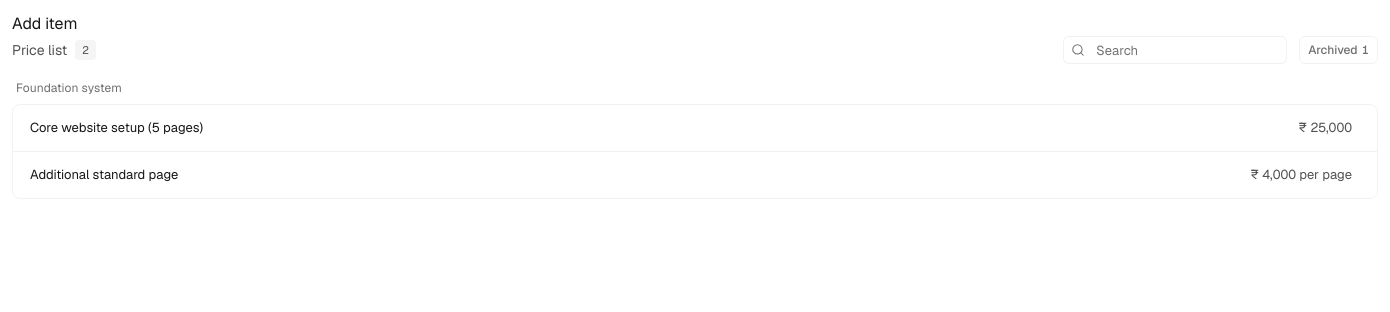
it: the price list › hides archived items until they are asked for
Expected: the text "Retired line" is not shown
Click the button "Archived 1": (1339,50) x1=1299 y1=36 x2=1378 y2=64
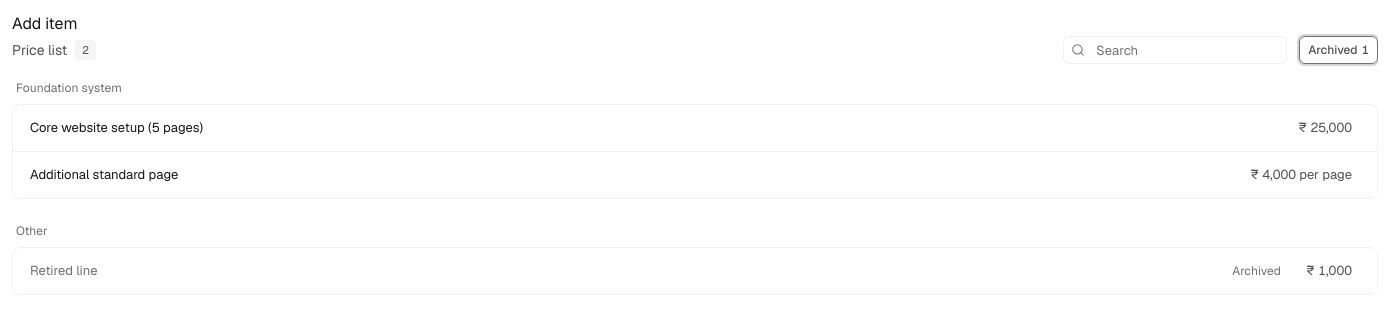
Now the text "Retired line" is shown, box x1=30 y1=261 x2=98 y2=281
